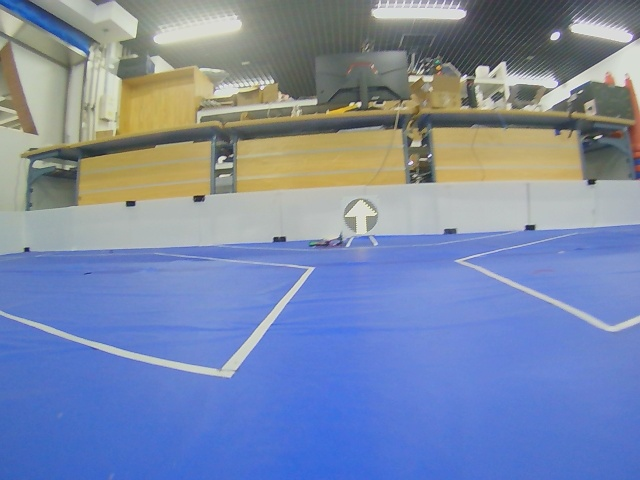straight_yellow: (344, 199, 378, 234)
